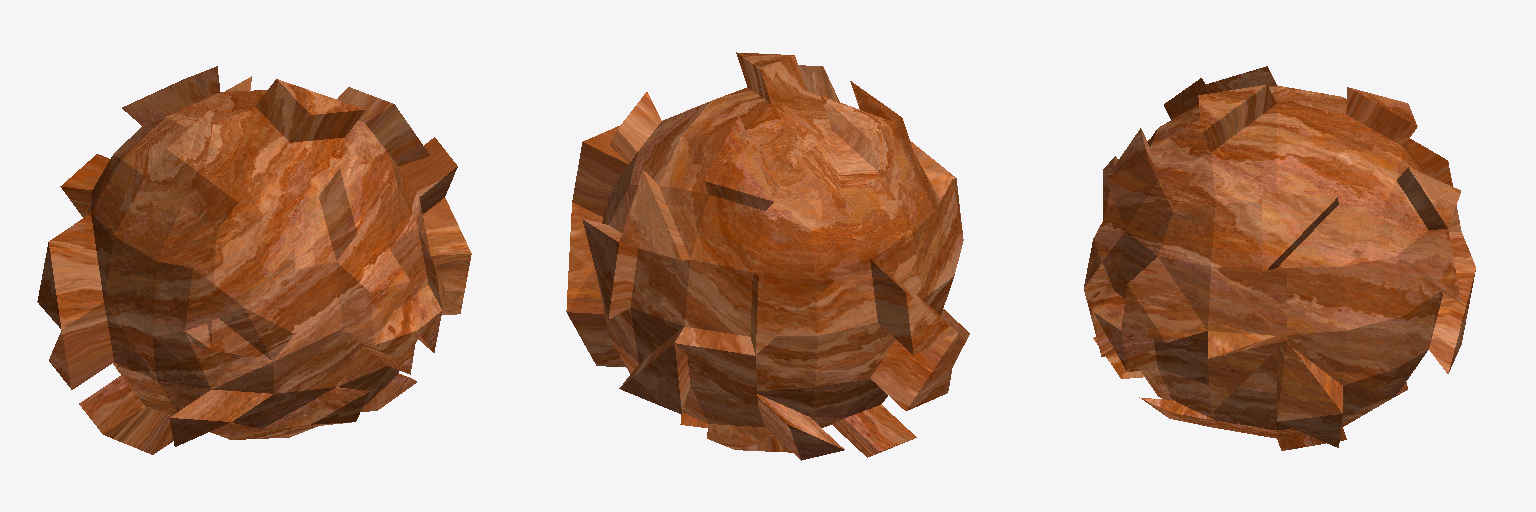
The picture shows the model from 3 angles: view 1: azimuth 30°, elevation 25°; view 2: azimuth 150°, elevation 25°; view 3: azimuth 270°, elevation 25°; orthographic projection.
Parts seen in each view (by area): view 1: Cube; view 2: Cube; view 3: Cube.
Part boxes in pixels (left/top/right/bottom): Cube: left=37, top=66, right=471, bottom=454; Cube: left=566, top=52, right=969, bottom=460; Cube: left=1084, top=66, right=1475, bottom=450.
Bounding box in the file's own units: 8.6 × 7.62 × 7.6.
Materials: 1 (1 with a texture image).